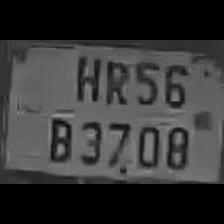0: (132, 119, 160, 170)
3: (74, 114, 102, 166)
5: (130, 56, 159, 107)
6: (160, 58, 188, 110)
7: (103, 115, 130, 171)
8: (162, 120, 190, 172)
B: (44, 112, 72, 162)
H: (70, 50, 102, 104)
R: (100, 56, 130, 106)
